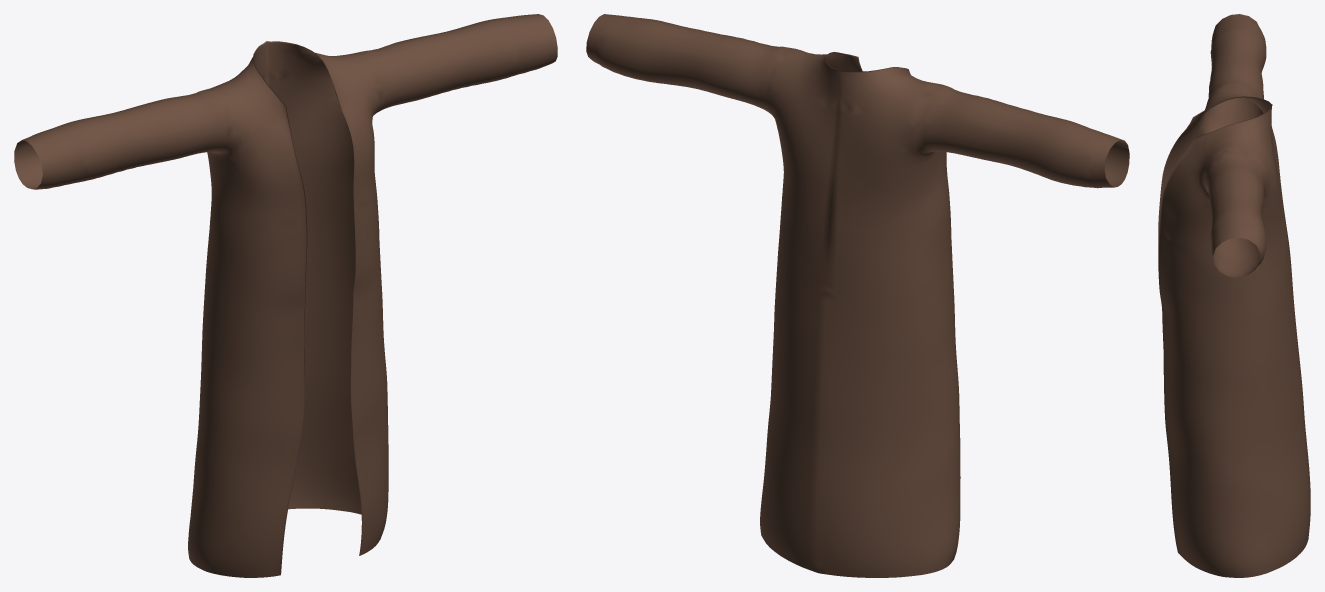
The model's file is coat.fbx.
3 renders of one model, left to right at view 1: azimuth 30°, elevation 25°; view 2: azimuth 150°, elevation 25°; view 3: azimuth 270°, elevation 25°, orthographic. The views are drawn at different scales.
Parts seen in each view (by area): view 1: Ch36.001; view 2: Ch36.001; view 3: Ch36.001.
Boxes of the visible parts, x1,y1,x2,y2 form: Ch36.001: (14, 14, 557, 577); Ch36.001: (586, 14, 1129, 577); Ch36.001: (1158, 14, 1310, 577).
Size of the model in its own units: 133 by 119 by 37.96.
